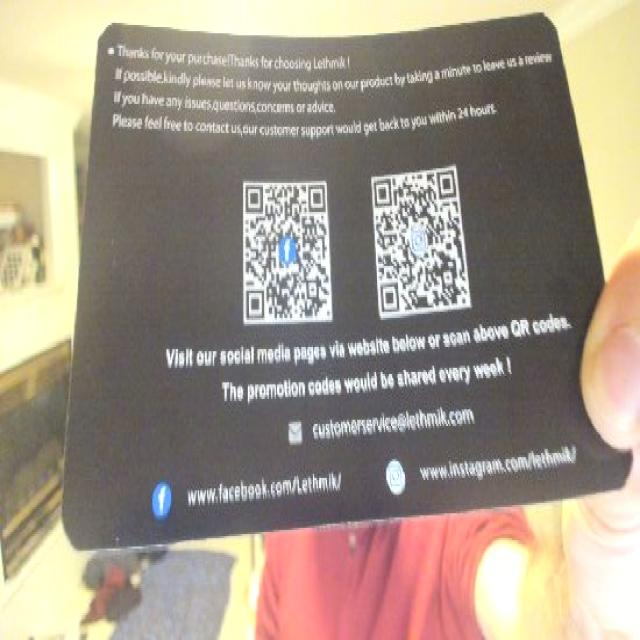QRCode: (358, 148, 479, 335), (235, 160, 338, 333)
